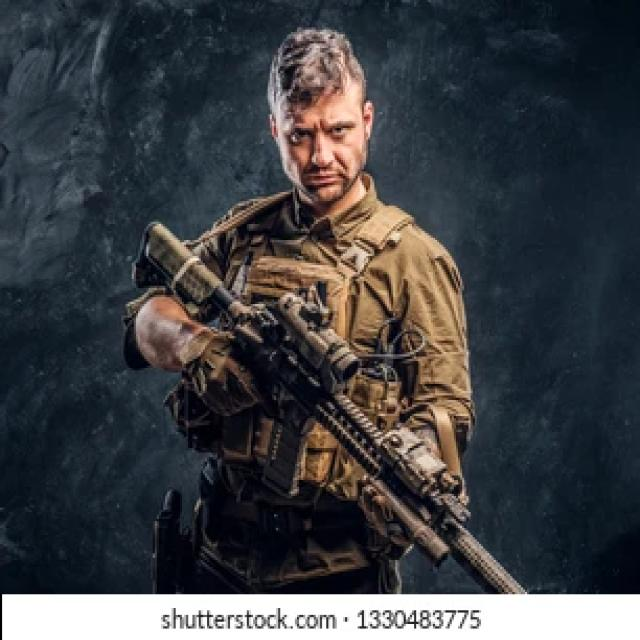soldier: (121, 31, 534, 595)
